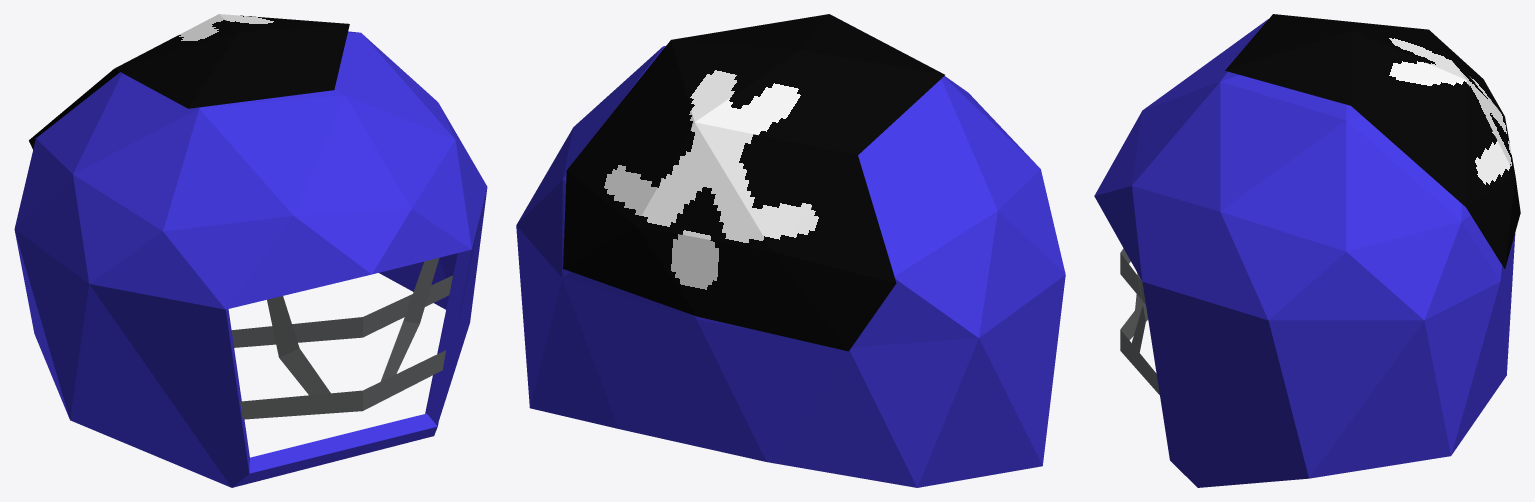
The model's file is amogus-hat-hockey.fbx.
3 views of the same model, side by side, from view 1: azimuth 30°, elevation 25°; view 2: azimuth 150°, elevation 25°; view 3: azimuth 270°, elevation 25° (orthographic). The views are drawn at different scales.
Visible parts, largest first — view 1: HockeyHat; view 2: HockeyHat; view 3: HockeyHat.
Part boxes in pixels (x1,y1,x2,y2): HockeyHat: (14, 14, 487, 487); HockeyHat: (516, 14, 1065, 487); HockeyHat: (1094, 14, 1520, 487).
Size of the model in its own units: 108 by 95.3 by 97.53.
